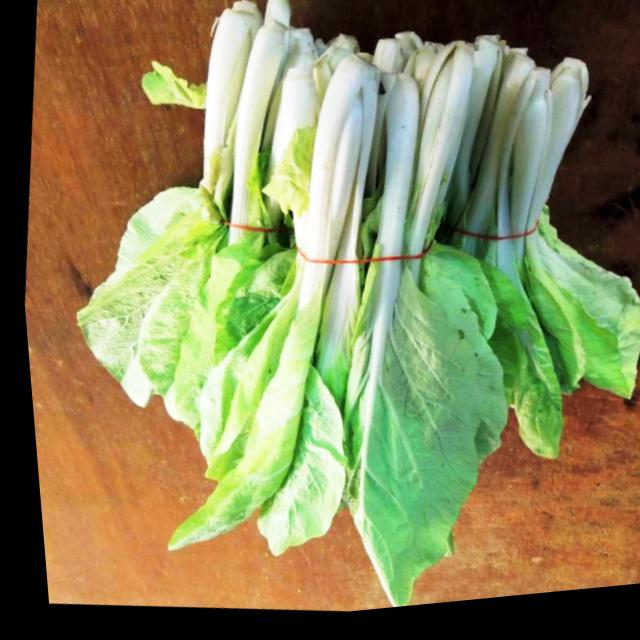chinese_cabbage: (22, 0, 640, 638)
